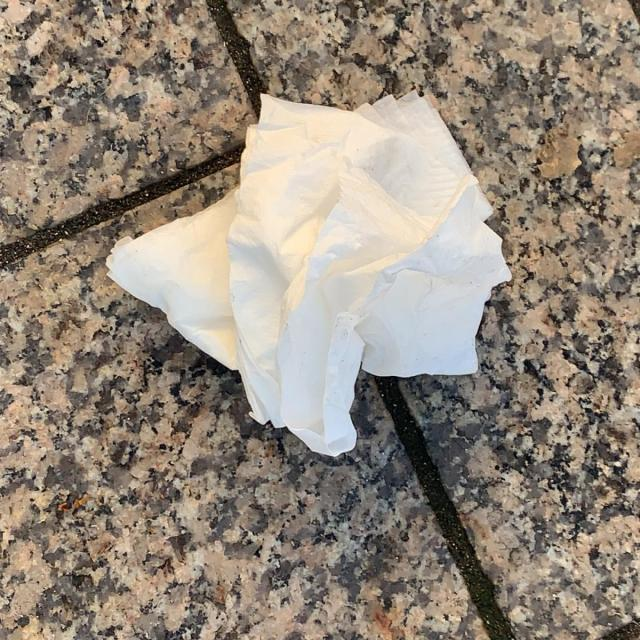Paper: (104, 87, 516, 460)
